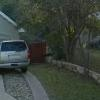Car: (2, 31, 32, 82)
